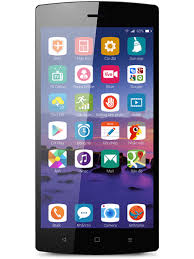bphone: (32, 1, 163, 255)
